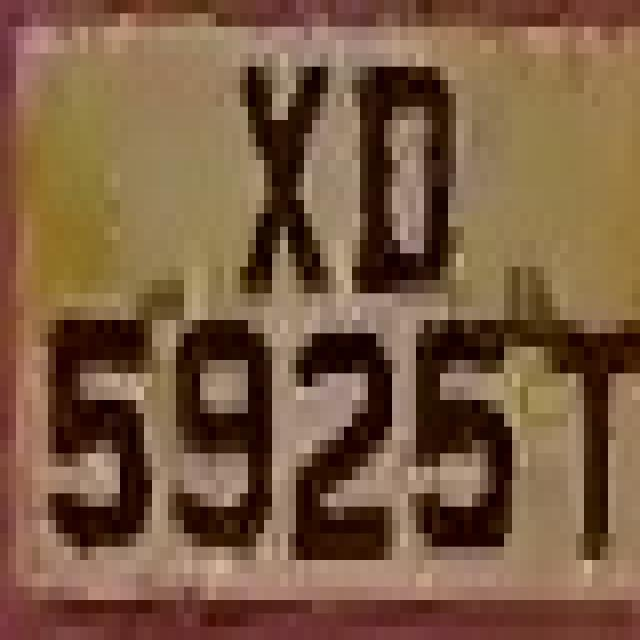2: (264, 307, 392, 600)
5: (392, 267, 544, 560), (32, 280, 152, 573)
9: (160, 280, 280, 587)
D: (328, 13, 464, 307)
T: (540, 307, 640, 560), (6, 5, 8, 12)
X: (216, 13, 336, 347)
